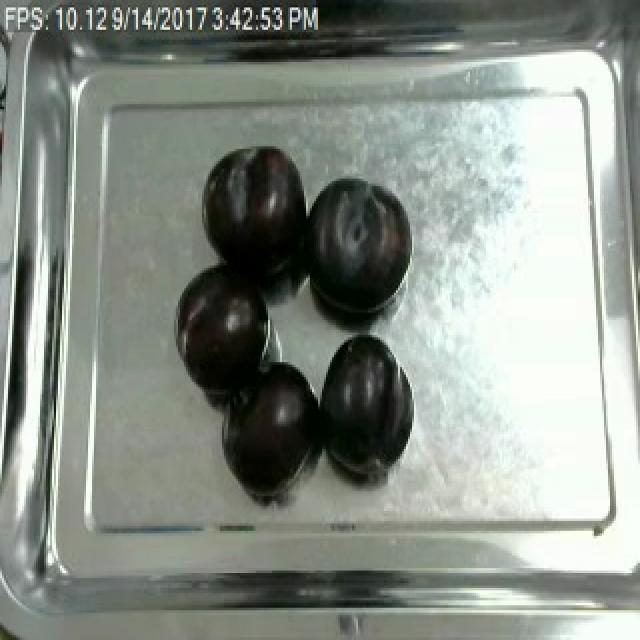Fruit: (300, 171, 414, 325), (200, 139, 314, 293), (172, 256, 270, 400), (222, 355, 324, 491), (316, 328, 408, 477)
